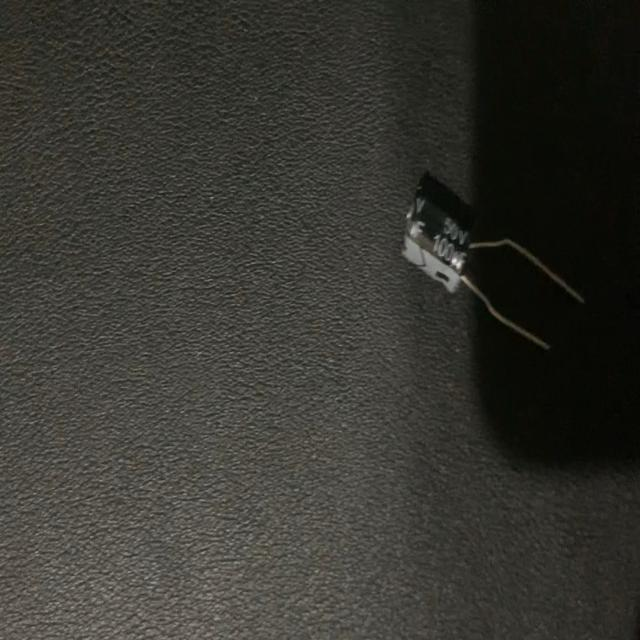capacitor: (400, 190, 585, 347)
